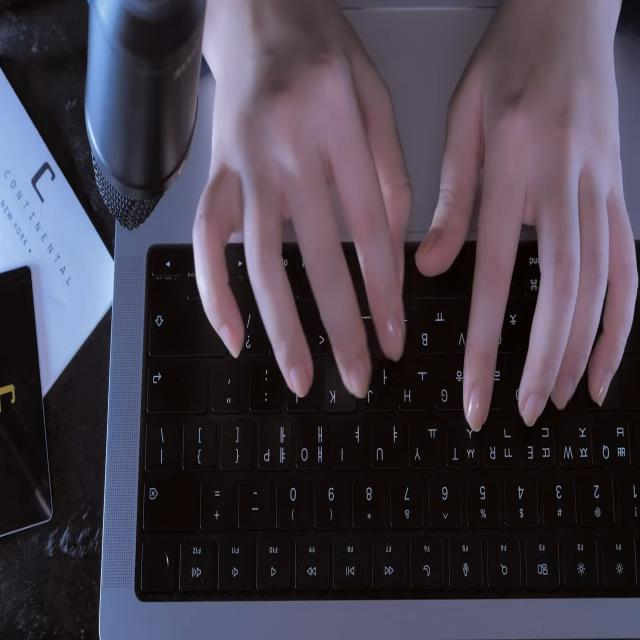keyboard-with-hands: (136, 244, 640, 596)
